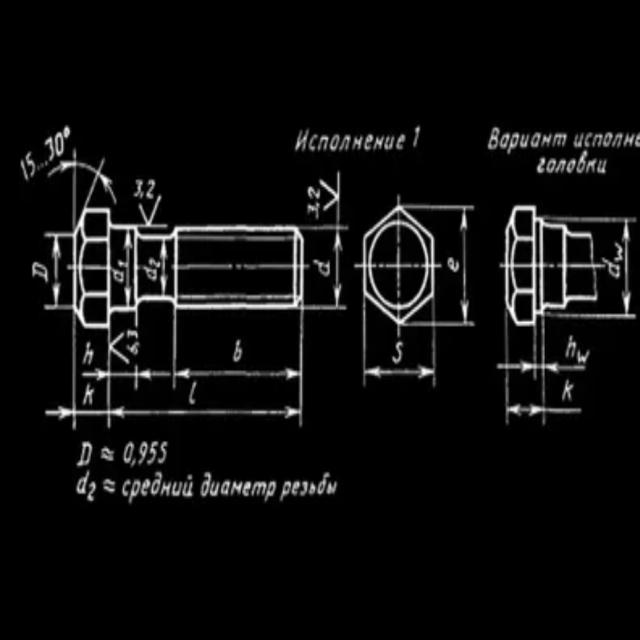marking_line: (110, 406, 298, 417), (179, 366, 296, 382), (459, 212, 471, 325), (621, 219, 633, 316), (330, 234, 342, 306), (366, 365, 432, 378), (158, 241, 171, 296), (523, 359, 560, 375), (44, 402, 75, 420), (509, 403, 543, 419), (143, 362, 170, 382), (51, 239, 59, 306), (79, 364, 106, 380), (125, 234, 131, 304)
numeric: (123, 439, 174, 469), (305, 183, 320, 223), (132, 173, 155, 199), (21, 153, 37, 187), (45, 131, 63, 160), (126, 326, 141, 360)
special_symbol: (47, 161, 119, 208), (318, 175, 339, 215)
